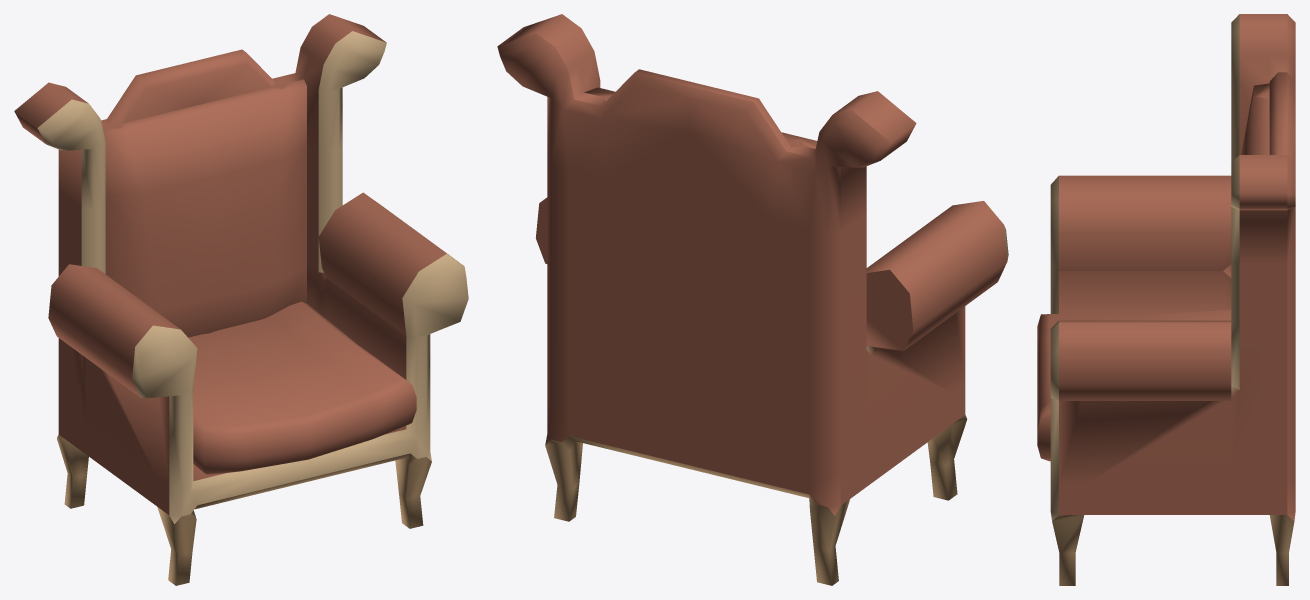
File: Mesh_BossChair.fbx
3 renders of one model, left to right at view 1: azimuth 30°, elevation 25°; view 2: azimuth 150°, elevation 25°; view 3: azimuth 270°, elevation 25°, orthographic. The views are drawn at different scales.
Parts seen in each view (by area): view 1: Mesh_BossChair; view 2: Mesh_BossChair; view 3: Mesh_BossChair.
Boxes of the visible parts, x1,y1,x2,y2 form: Mesh_BossChair: [14, 14, 468, 585]; Mesh_BossChair: [497, 14, 1008, 585]; Mesh_BossChair: [1037, 14, 1295, 585].
Bounding box in the file's own units: 175 × 204 × 109.
